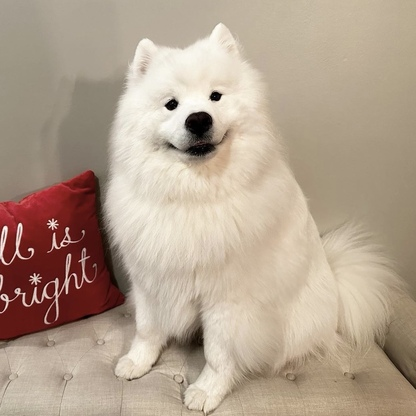samoyed: (101, 17, 402, 415)
